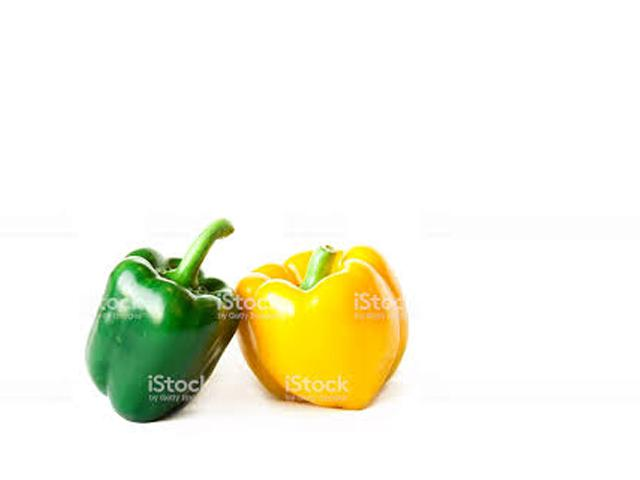bell_pepper: (71, 235, 236, 446)
